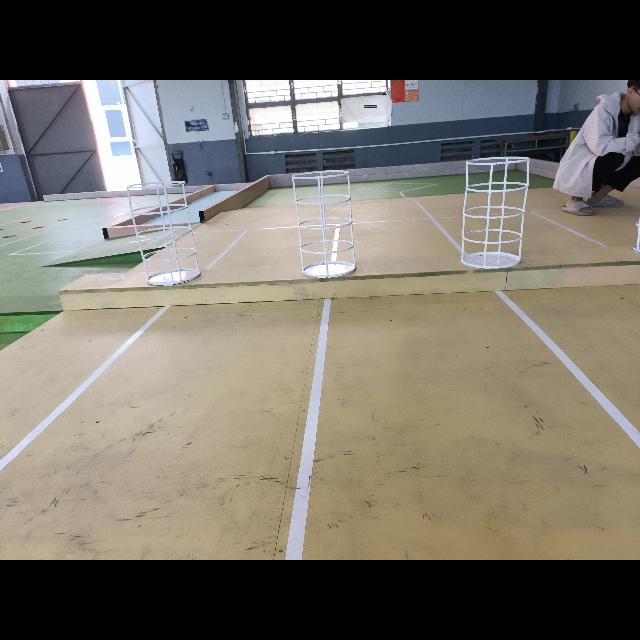S: (459, 154, 531, 272), (127, 180, 201, 286), (290, 168, 358, 278), (628, 198, 640, 255)
